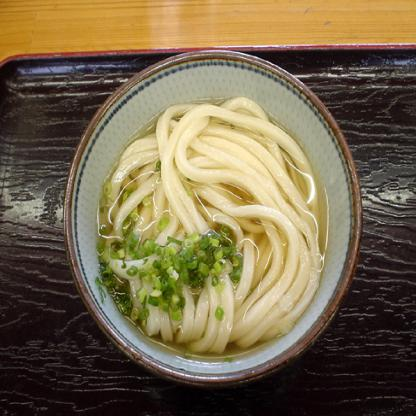Noodles: (101, 96, 325, 354)
